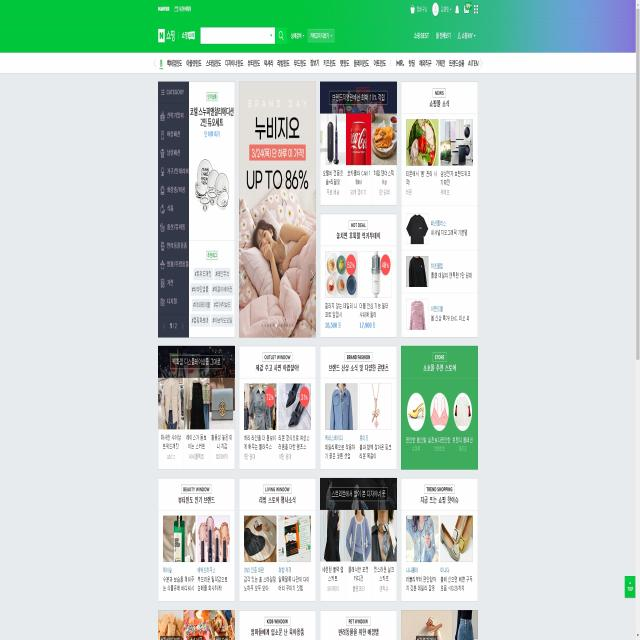menu-bar: (407, 3, 481, 20)
menu-panel: (157, 84, 188, 336)
search: (199, 26, 289, 48)
tab-bar: (152, 54, 486, 72), (412, 26, 478, 42), (155, 25, 198, 44)
